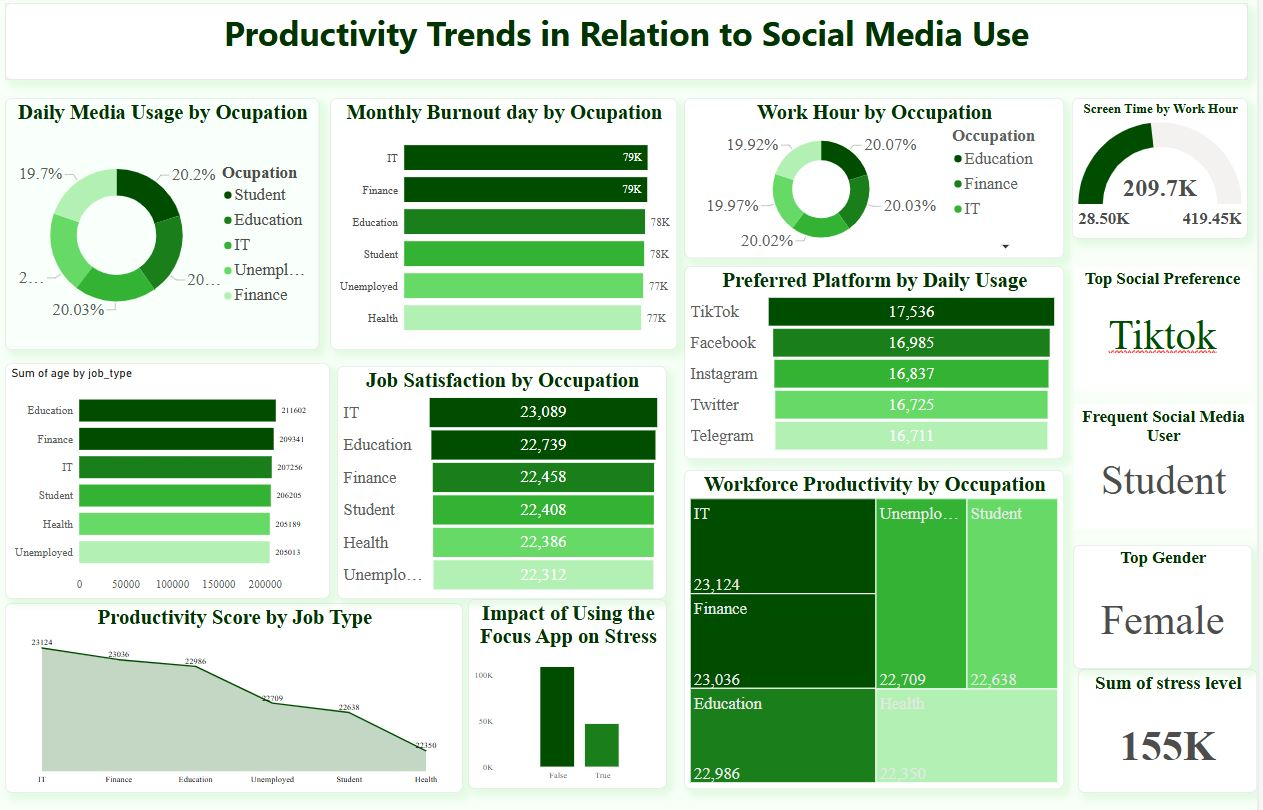

What the dashboard file says about the page in this screenshot:
{"tool":"powerbi","page":{"name":"Page 1","canvas":[1800,1200],"ordinal":0},"visuals":[{"type":"areaChart","title":"Productivity Score by Job Type","fields":{"Category":["social_media_vs_productivity.job_type"],"Y":["Sum(social_media_vs_productivity.actual_productivity_score)"]},"box":[11.4,867.1,654.3,271.4],"z":0},{"type":"donutChart","title":"Work Hour by Occupation","fields":{"Y":["Sum(social_media_vs_productivity.work_hours_per_day)"],"Category":["social_media_vs_productivity.job_type"]},"box":[981.4,145.7,542.9,228.6],"z":1000},{"type":"gauge","title":"Screen Time by Work Hour","fields":{"Y":["Sum(social_media_vs_productivity.work_hours_per_day)"],"MinValue":["Sum(social_media_vs_productivity.screen_time_before_sleep)"]},"box":[1535.7,145.7,251.4,201.4],"z":2000},{"type":"card","title":"Sum of stress level","fields":{"Values":["Sum(social_media_vs_productivity.stress_level)"]},"box":[1544.3,961.4,255.7,177.1],"z":3000},{"type":"barChart","fields":{"Y":["Sum(social_media_vs_productivity.age)"],"Category":["social_media_vs_productivity.job_type"]},"box":[11.4,524.3,464.3,337.1],"z":4000},{"type":"card","title":"Top Gender","fields":{"Values":["Min(social_media_vs_productivity.gender)"]},"box":[1537.1,784.3,255.7,177.1],"z":5000},{"type":"treemap","title":"Workforce Productivity by Occupation","fields":{"Values":["Sum(social_media_vs_productivity.actual_productivity_score)"],"Group":["social_media_vs_productivity.job_type"]},"box":[981.4,677.1,542.9,455.7],"z":6000},{"type":"donutChart","title":"Daily Media Usage by Ocupation","fields":{"Category":["social_media_vs_productivity.job_type"],"Y":["Sum(social_media_vs_productivity.daily_social_media_time)"]},"box":[11.4,145.7,448.6,360],"z":7000},{"type":"funnel","title":"Preferred Platform by Daily Usage ","fields":{"Category":["social_media_vs_productivity.social_platform_preference"],"Y":["Sum(social_media_vs_productivity.daily_social_media_time)"]},"box":[981.4,385.7,542.9,275.7],"z":8000},{"type":"columnChart","title":"Impact of Using the Focus App on Stress","fields":{"Category":["social_media_vs_productivity.uses_focus_apps"],"Y":["Sum(social_media_vs_productivity.stress_level)"]},"box":[672.9,861.4,284.3,271.4],"z":9000},{"type":"funnel","title":"Job Satisfaction by Occupation","fields":{"Category":["social_media_vs_productivity.job_type"],"Y":["Sum(social_media_vs_productivity.job_satisfaction_score)"]},"box":[485.7,528.6,471.4,332.9],"z":10000},{"type":"clusteredBarChart","title":"Monthly Burnout day  by Ocupation","fields":{"Category":["social_media_vs_productivity.job_type"],"Y":["Sum(social_media_vs_productivity.days_feeling_burnout_per_month)"]},"box":[475.7,145.7,495.7,360],"z":11000},{"type":"textbox","box":[11.4,10,1775.7,110],"z":11001},{"type":"textbox","box":[1538.6,385.7,252.9,178.6],"z":11002},{"type":"textbox","box":[1538.6,582.9,255.7,178.6],"z":11003}]}

Visuals, with their boxes on the page's 1800x1200 design canvas (x1, y1, x2, y2). These are canvas units, not pixel positions in the 1263x810 screenshot, which may show the page scaled, cropped or inside an application window:
"Productivity Score by Job Type" areaChart: bbox=(11, 867, 666, 1138)
"Work Hour by Occupation" donutChart: bbox=(981, 146, 1524, 374)
"Screen Time by Work Hour" gauge: bbox=(1536, 146, 1787, 347)
"Sum of stress level" card: bbox=(1544, 961, 1800, 1138)
barChart - Sum(social_media_vs_productivity.age) x social_media_vs_productivity.job_type: bbox=(11, 524, 476, 861)
"Top Gender" card: bbox=(1537, 784, 1793, 961)
"Workforce Productivity by Occupation" treemap: bbox=(981, 677, 1524, 1133)
"Daily Media Usage by Ocupation" donutChart: bbox=(11, 146, 460, 506)
"Preferred Platform by Daily Usage " funnel: bbox=(981, 386, 1524, 661)
"Impact of Using the Focus App on Stress" columnChart: bbox=(673, 861, 957, 1133)
"Job Satisfaction by Occupation" funnel: bbox=(486, 529, 957, 862)
"Monthly Burnout day  by Ocupation" clusteredBarChart: bbox=(476, 146, 971, 506)
textbox: bbox=(11, 10, 1787, 120)
textbox: bbox=(1539, 386, 1792, 564)
textbox: bbox=(1539, 583, 1794, 762)
